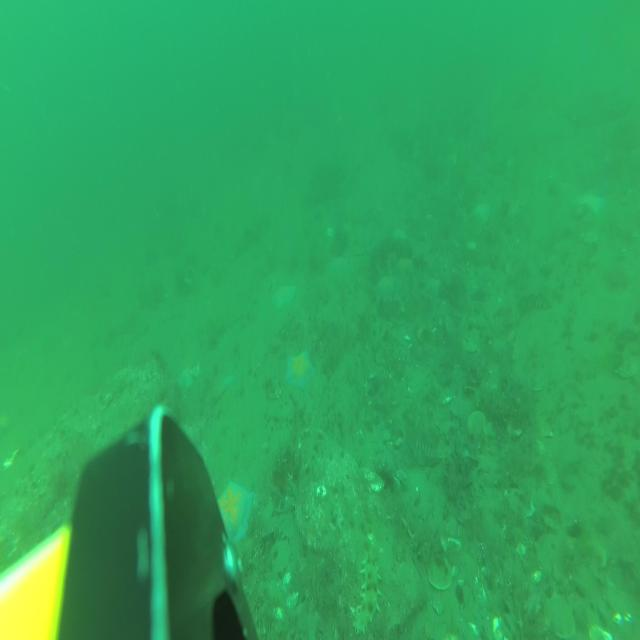echinus: (372, 454, 398, 499)
holothurian: (352, 550, 383, 635), (516, 288, 552, 316)
scallop: (543, 592, 577, 640), (426, 549, 454, 591), (583, 536, 609, 574), (507, 488, 537, 519), (409, 488, 433, 522), (466, 403, 486, 439), (616, 357, 640, 381), (266, 376, 283, 401), (526, 370, 545, 392), (483, 418, 499, 440), (460, 336, 479, 353), (463, 327, 482, 342)
starfish: (213, 475, 256, 546), (284, 345, 314, 393), (270, 280, 298, 313), (578, 187, 605, 220), (376, 268, 396, 301), (175, 366, 198, 393), (470, 198, 490, 225)
